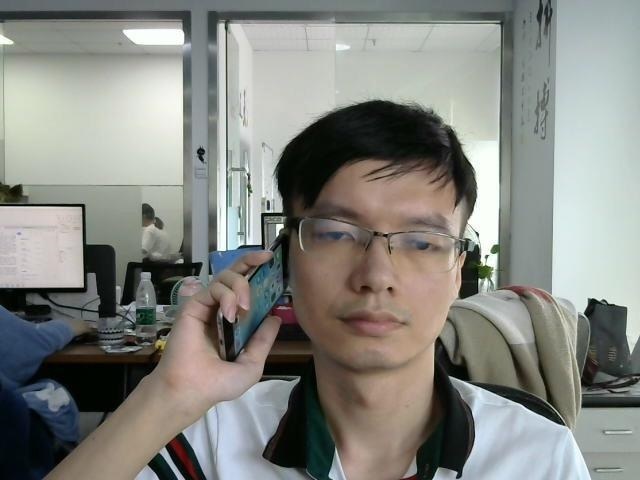hand: (174, 245, 281, 386)
